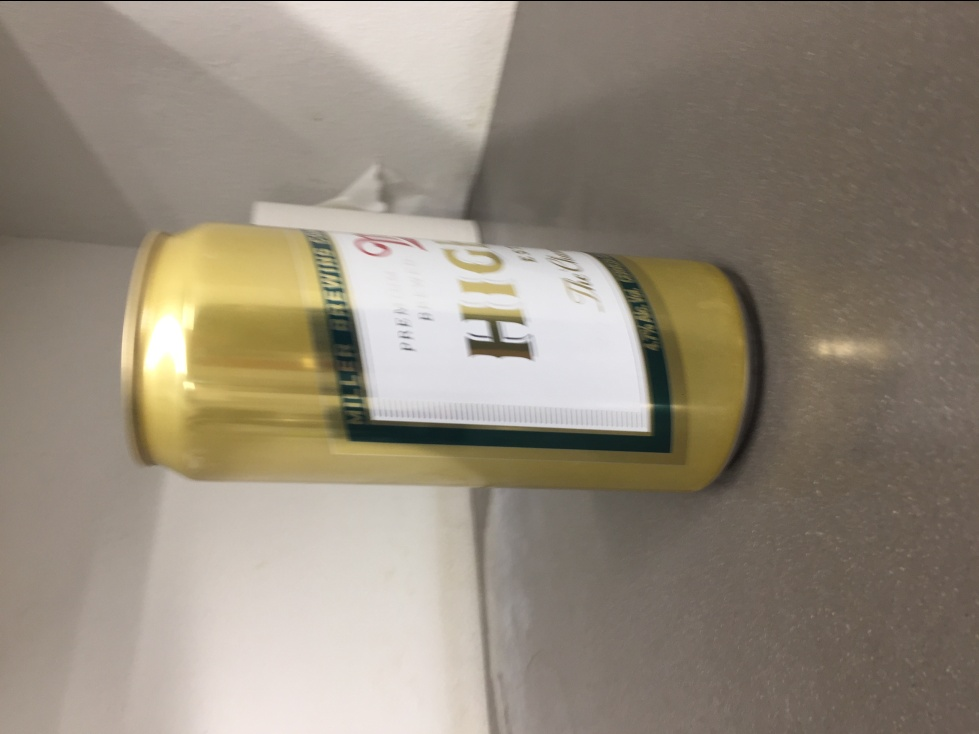miller: (114, 220, 759, 494)
